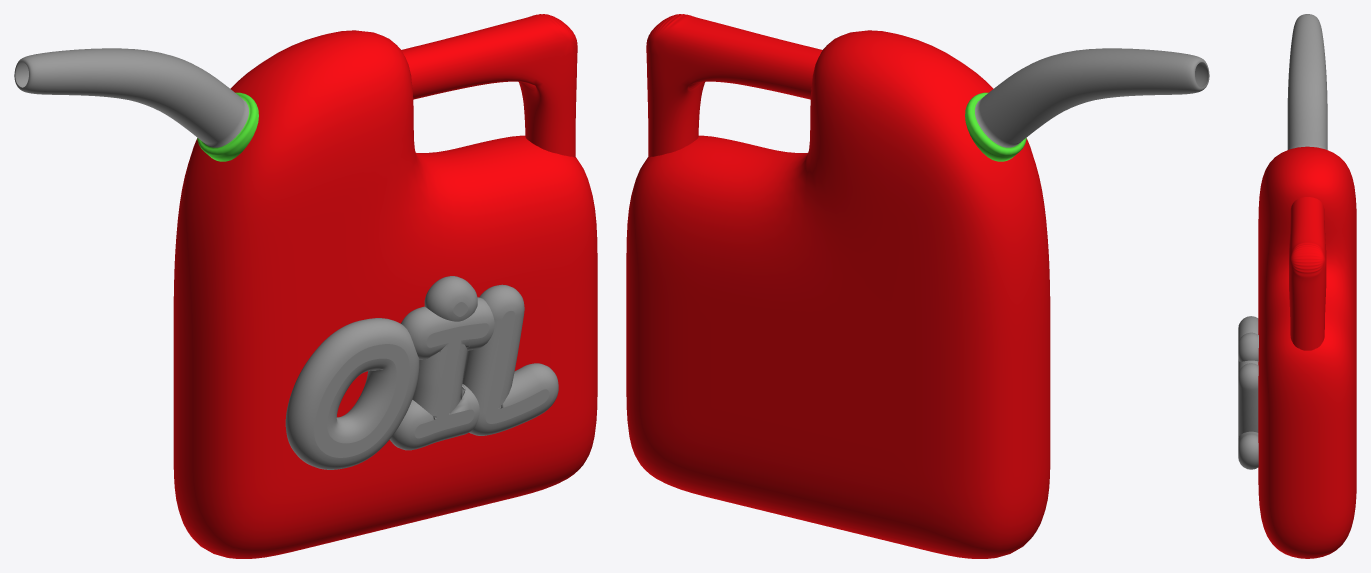
Rendered from FUEL.fbx.
The picture shows the model from 3 angles, left to right: view 1: azimuth 30°, elevation 25°; view 2: azimuth 150°, elevation 25°; view 3: azimuth 270°, elevation 25°; orthographic projection. The views are drawn at different scales.
Visible parts, largest first — view 1: fuel; view 2: fuel; view 3: fuel.
Boxes of the visible parts, left/top/right/bottom form: fuel: left=14, top=14, right=597, bottom=558; fuel: left=626, top=14, right=1209, bottom=558; fuel: left=1238, top=14, right=1356, bottom=558.
Bounding box in the file's own units: 69.97 × 64.54 × 18.56.
